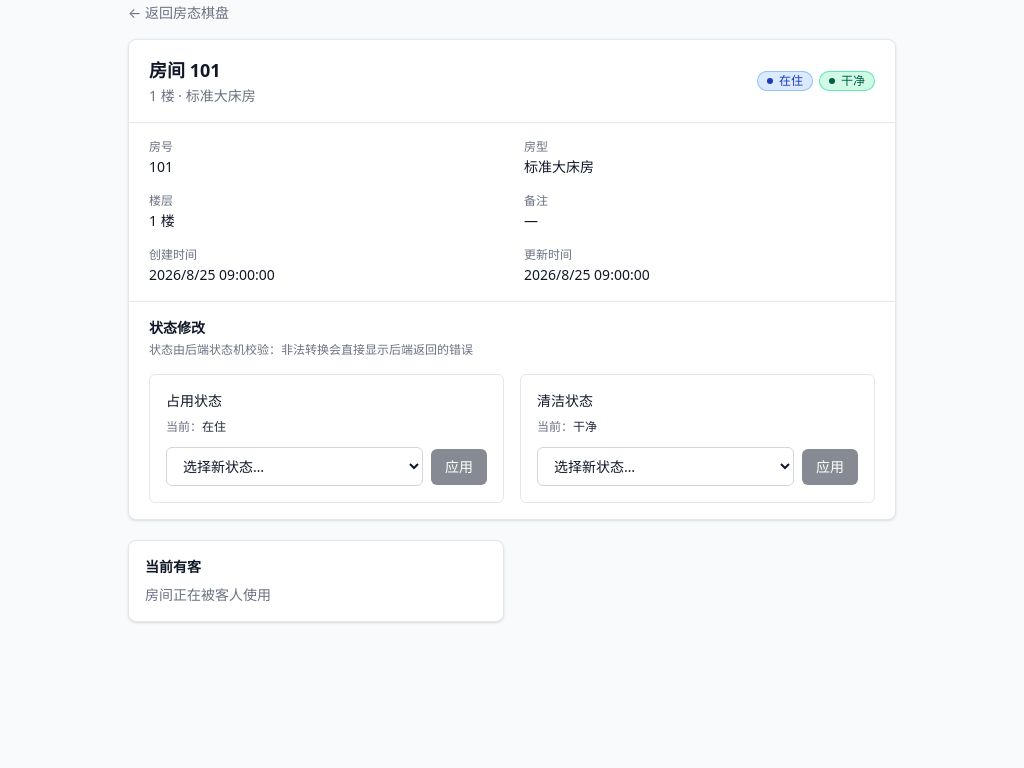
Test: RoomDetailView 状态修改（真实后端状态机语义） › 非法转换（409）→ 显示后端可读错误，页面不崩溃
Check: the heading "房间 101" is shown, box top-left (149, 58), bottom-right (221, 82)
Select "锁房" in the dropdown named "修改占用状态" below "占用状态". click: x=294, y=466
box: top-left (166, 447), bottom-right (423, 486)
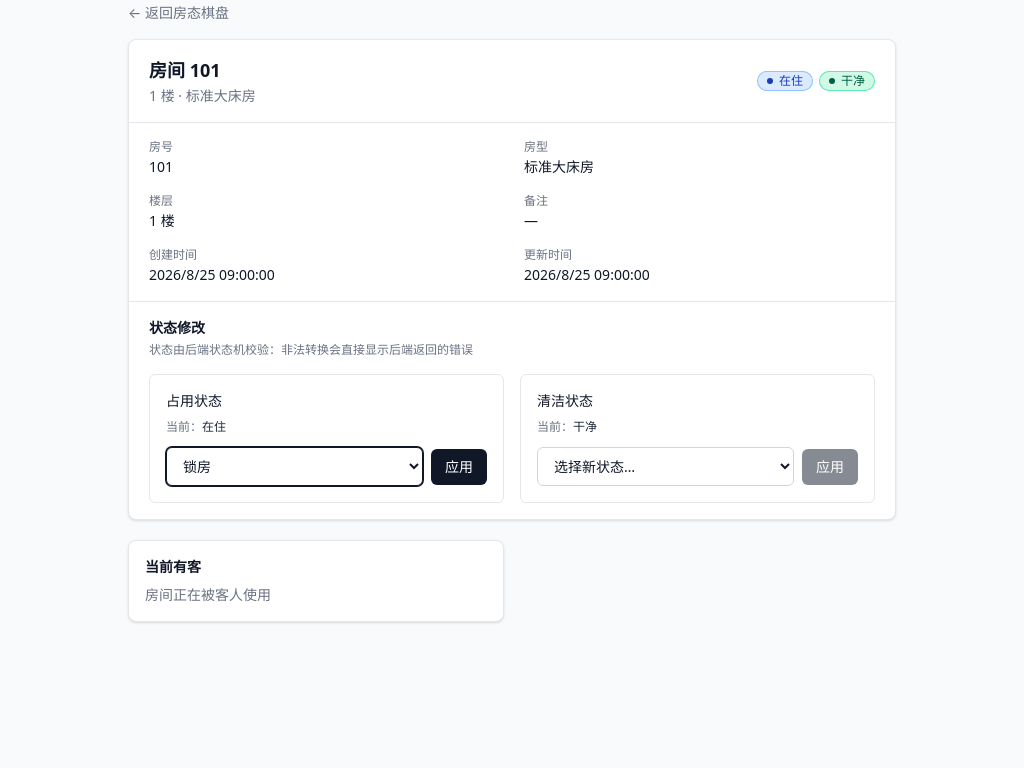
Click the button "应用" below "占用状态". click: x=459, y=466
box: top-left (431, 448), bottom-right (487, 484)
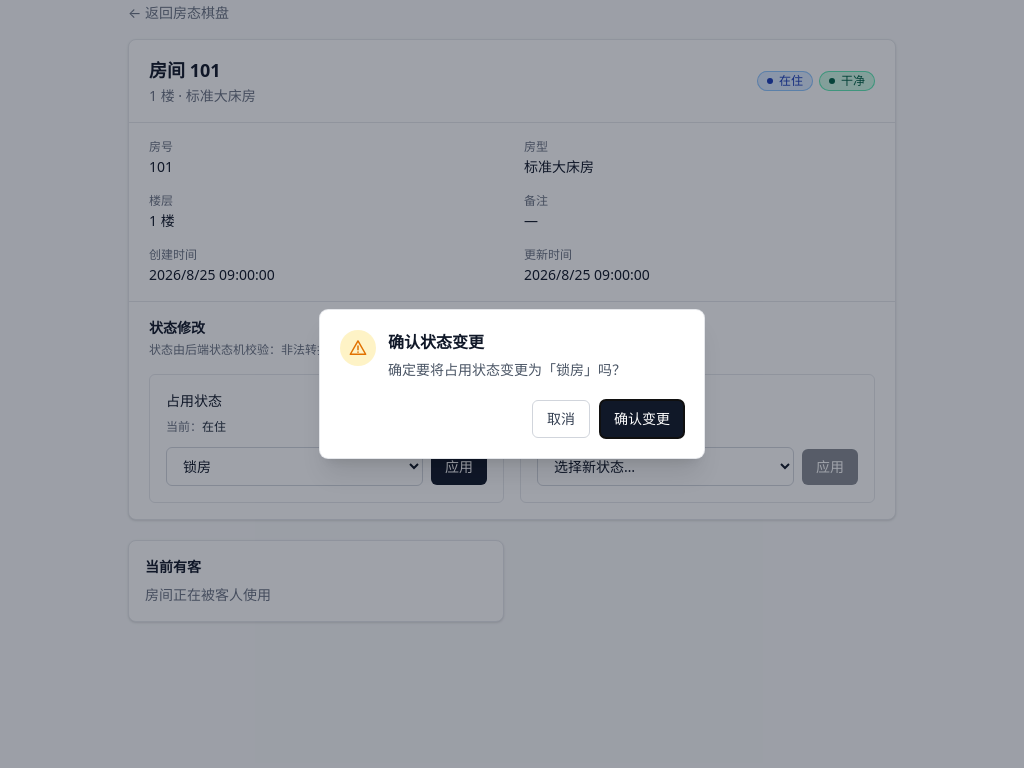
Click the button "确认变更". click: x=642, y=419
box: top-left (600, 400), bottom-right (684, 438)
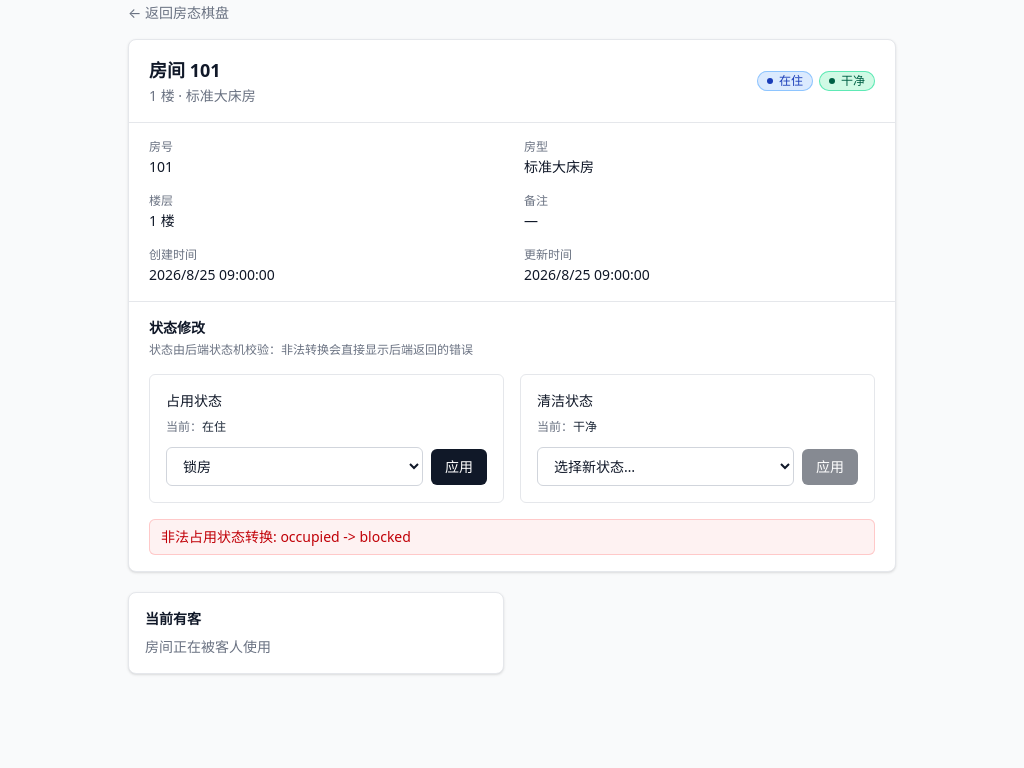
Check: the message reads "非法占用状态转换: occupied -> blocked", box top-left (161, 527), bottom-right (411, 546)
